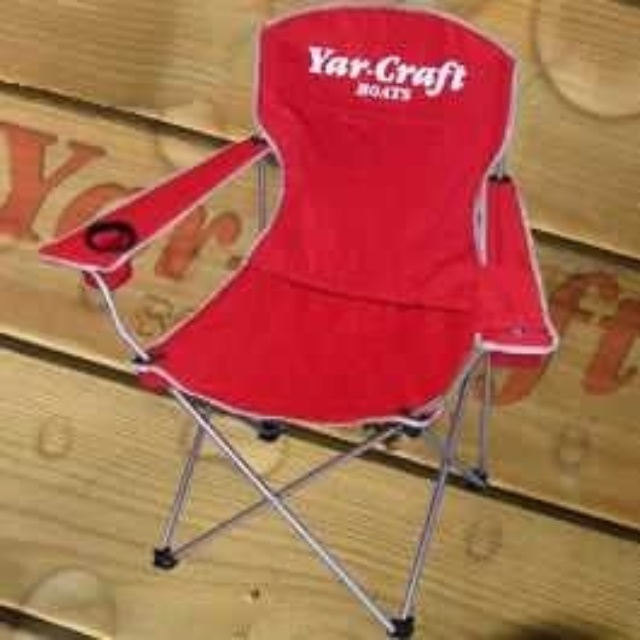obstacle: (39, 8, 555, 632)
